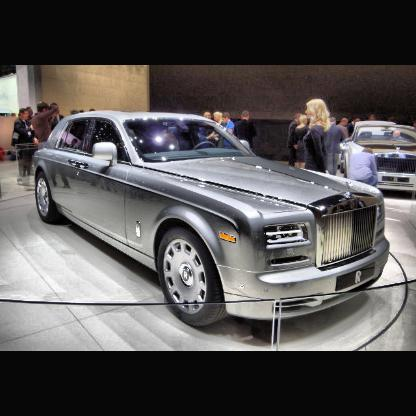Rolls-Royce Phantom Sedan 2012: (30, 111, 392, 333)
